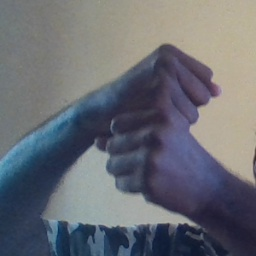G: (100, 39, 222, 204)
